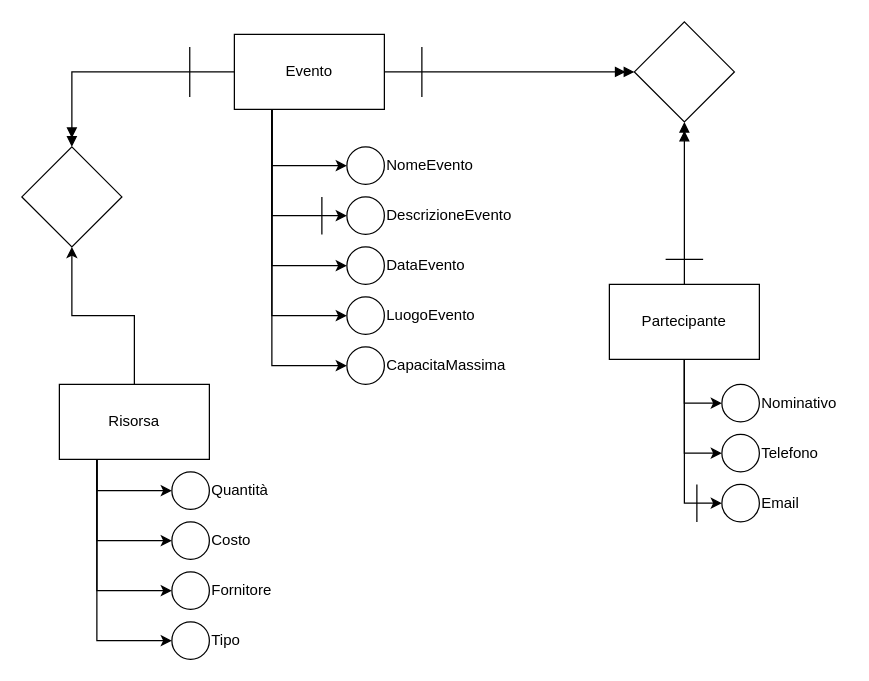
Image size: 869x681. Some labels were removed from this diagram. The centre of each missing label's shape, as x and y in pixels:
Partecipa: pixel 683 71
Utilizza: pixel 71 196
